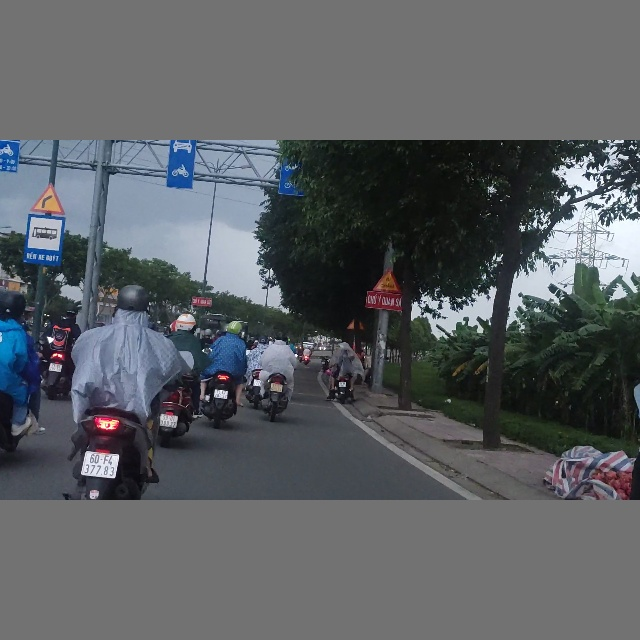I.434a: (24, 213, 65, 265)
W.201b: (30, 183, 67, 214)
W.245a: (372, 267, 401, 293)
